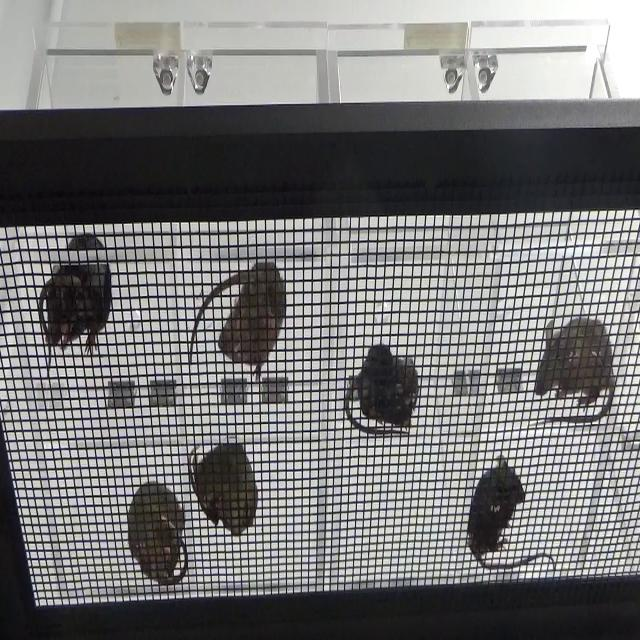scratch: (341, 332, 427, 459)
